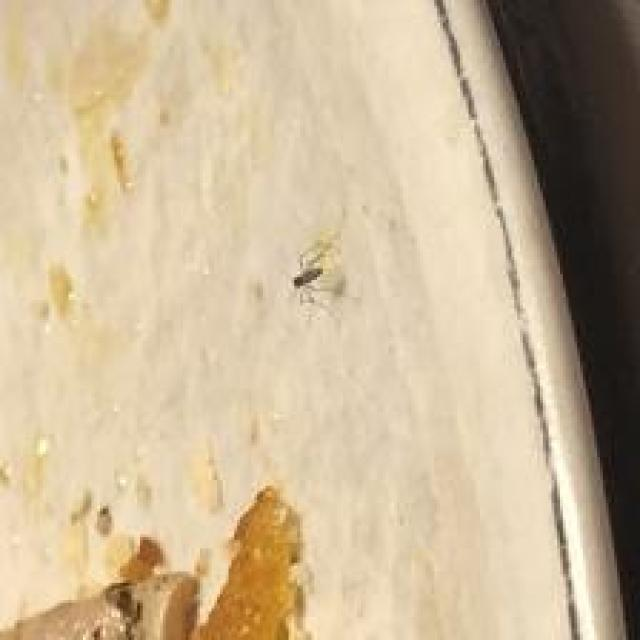Aedes albopictus: (1, 483, 316, 640)
